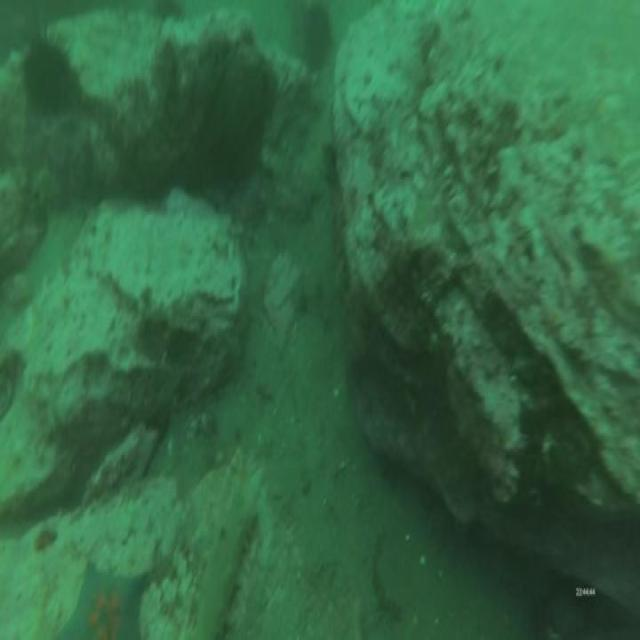echinus: (19, 19, 81, 130), (300, 0, 335, 79)
holothurian: (192, 498, 264, 640)
starfish: (51, 551, 151, 640)
